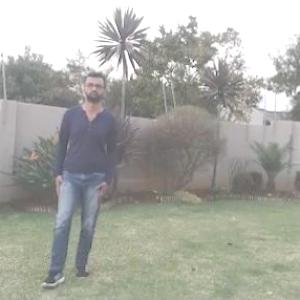follow: (42, 47, 123, 294)
